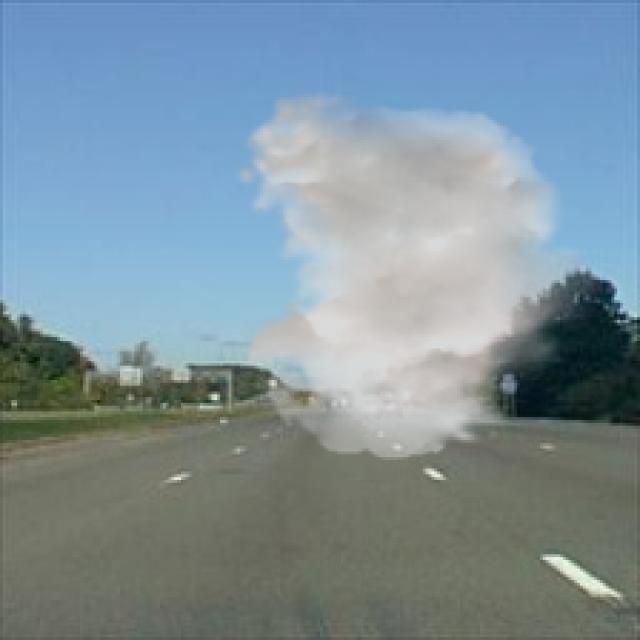smoke: (234, 91, 612, 460)
